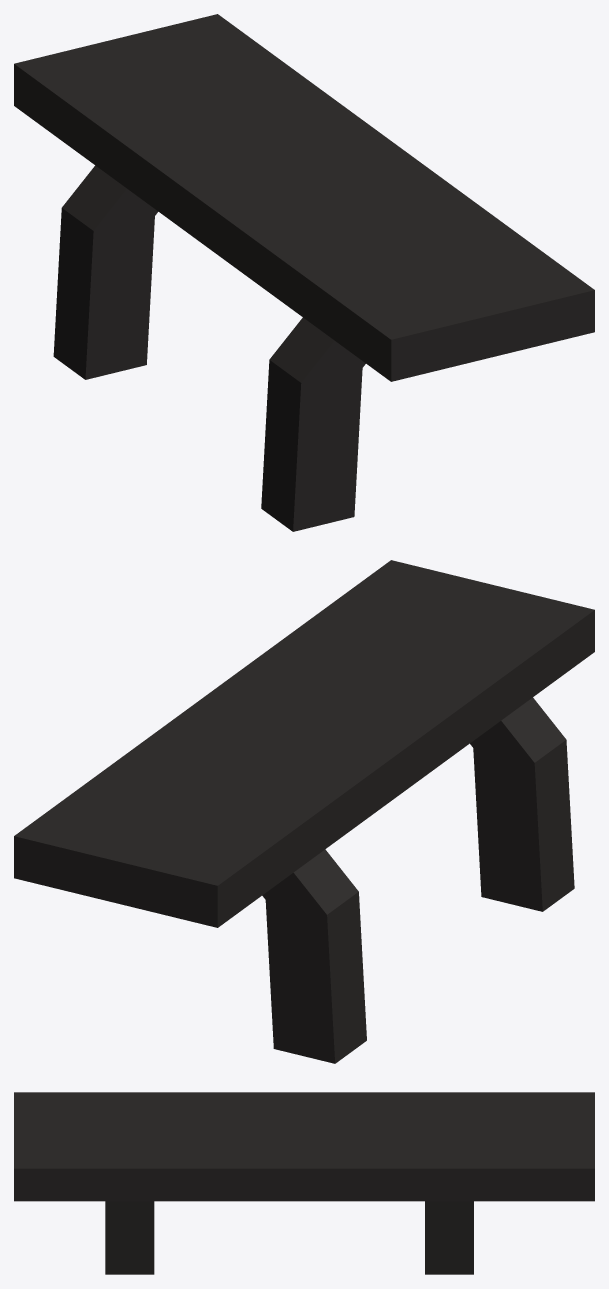
The model's file is AK_Rail.FBX.
The picture shows the model from 3 angles, top to bottom: view 1: azimuth 30°, elevation 25°; view 2: azimuth 150°, elevation 25°; view 3: azimuth 270°, elevation 25°; orthographic projection. The views are drawn at different scales.
Visible parts, largest first — view 1: AKrail; view 2: AKrail; view 3: AKrail.
Part boxes in pixels (x1,y1,x2,y2): AKrail: [14, 14, 594, 531]; AKrail: [14, 560, 594, 1063]; AKrail: [14, 1092, 594, 1274].
Size of the model in its own units: 10.32 by 27.78 by 9.18.
